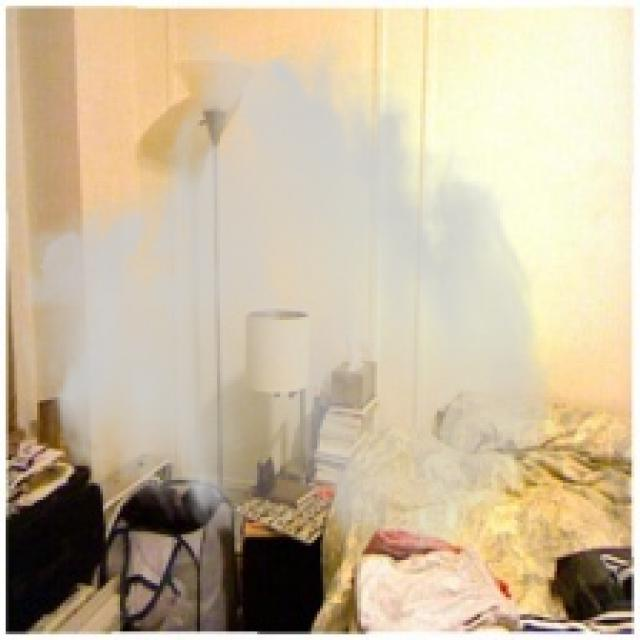smoke: (14, 17, 563, 569)
